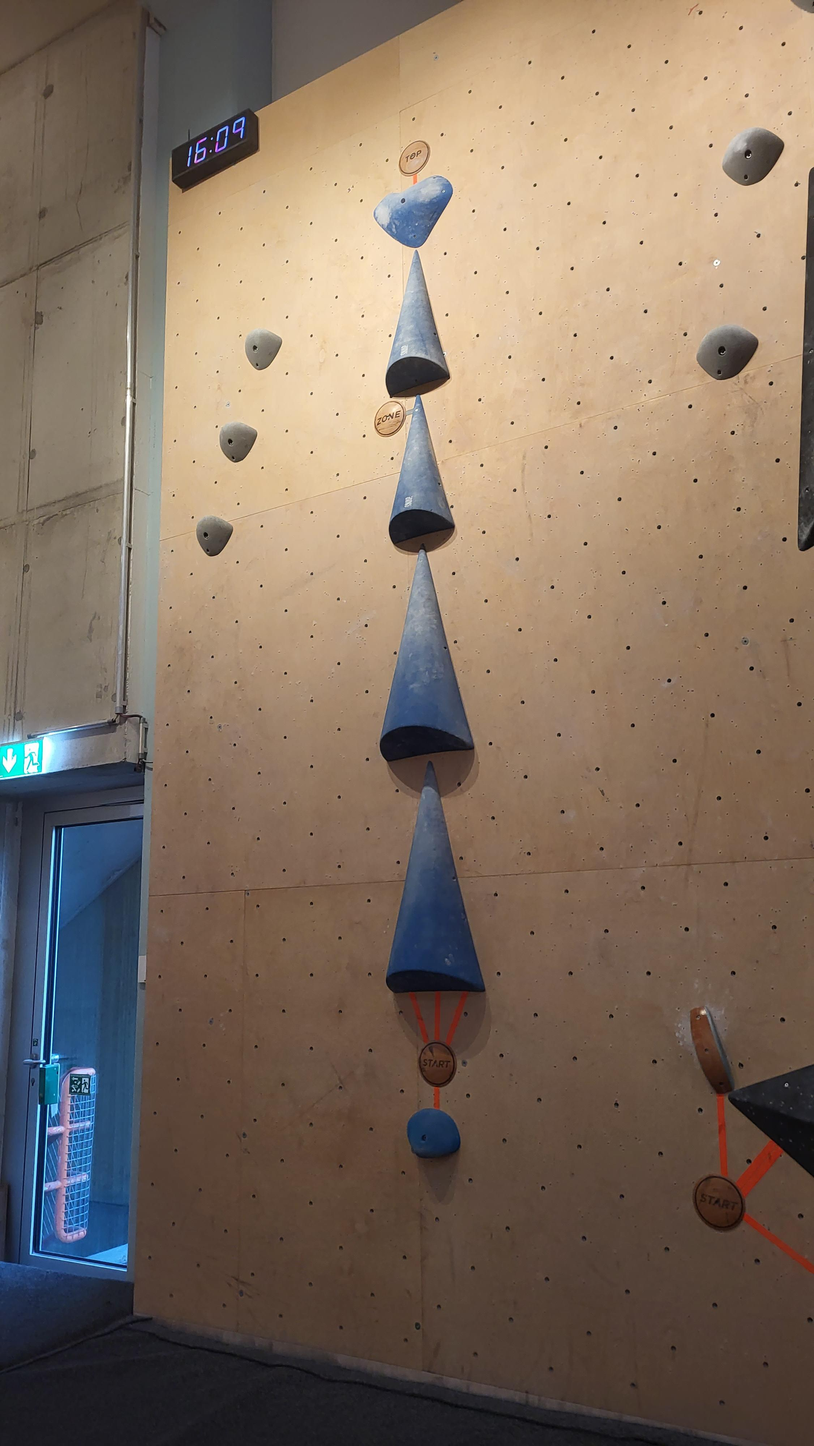black-hold: (339, 759, 487, 1014), (334, 542, 476, 772), (355, 393, 456, 545), (355, 249, 452, 397), (367, 155, 460, 254), (714, 116, 790, 196), (688, 311, 764, 390), (402, 1102, 464, 1164), (234, 321, 286, 375), (186, 508, 238, 561), (210, 416, 260, 467), (789, 0, 814, 15)
